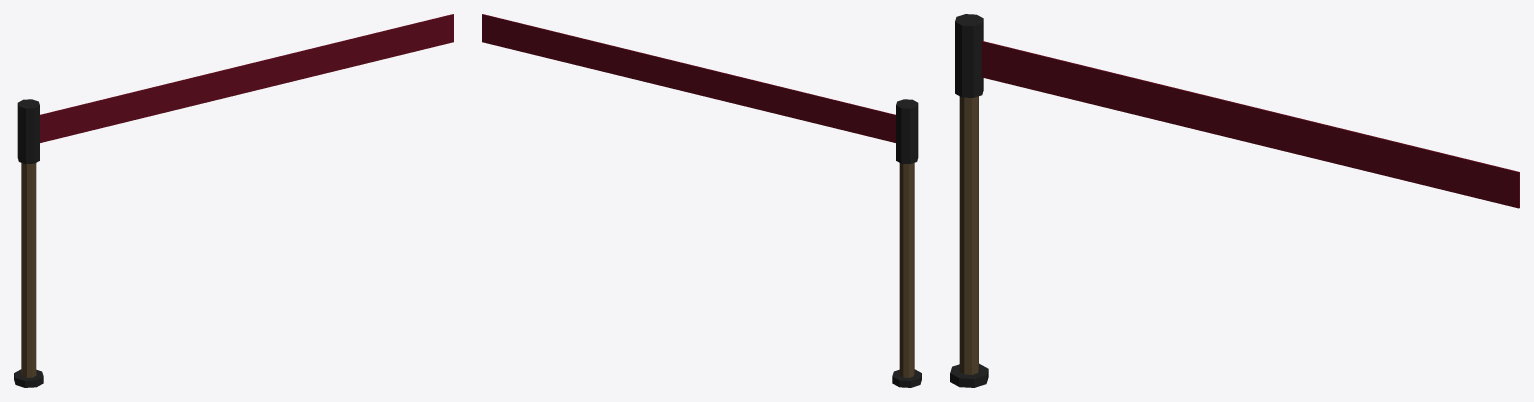
File: barrier-single.fbx
The picture shows the model from 3 angles, left to right: view 1: azimuth 30°, elevation 25°; view 2: azimuth 150°, elevation 25°; view 3: azimuth 330°, elevation 25°; orthographic projection. The views are drawn at different scales.
Parts seen in each view (by area): view 1: ribbon, pole, pole-top, pole-base; view 2: ribbon, pole, pole-top, pole-base; view 3: ribbon, pole, pole-top, pole-base.
Part boxes in pixels (x1,y1,x2,y2): ribbon: (40,14,453,142); pole: (21,163,36,377); pole-top: (17,99,39,164); pole-base: (14,369,43,387); ribbon: (482,14,895,142); pole: (899,163,914,377); pole-top: (896,99,918,164); pole-base: (892,369,921,387); ribbon: (981,41,1519,208); pole: (959,96,978,374); pole-top: (955,14,983,97); pole-base: (950,363,988,387).
Bounding box in the file's own units: 825 × 500 × 50.
